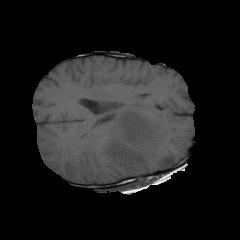glioma: (102, 101, 177, 173)
